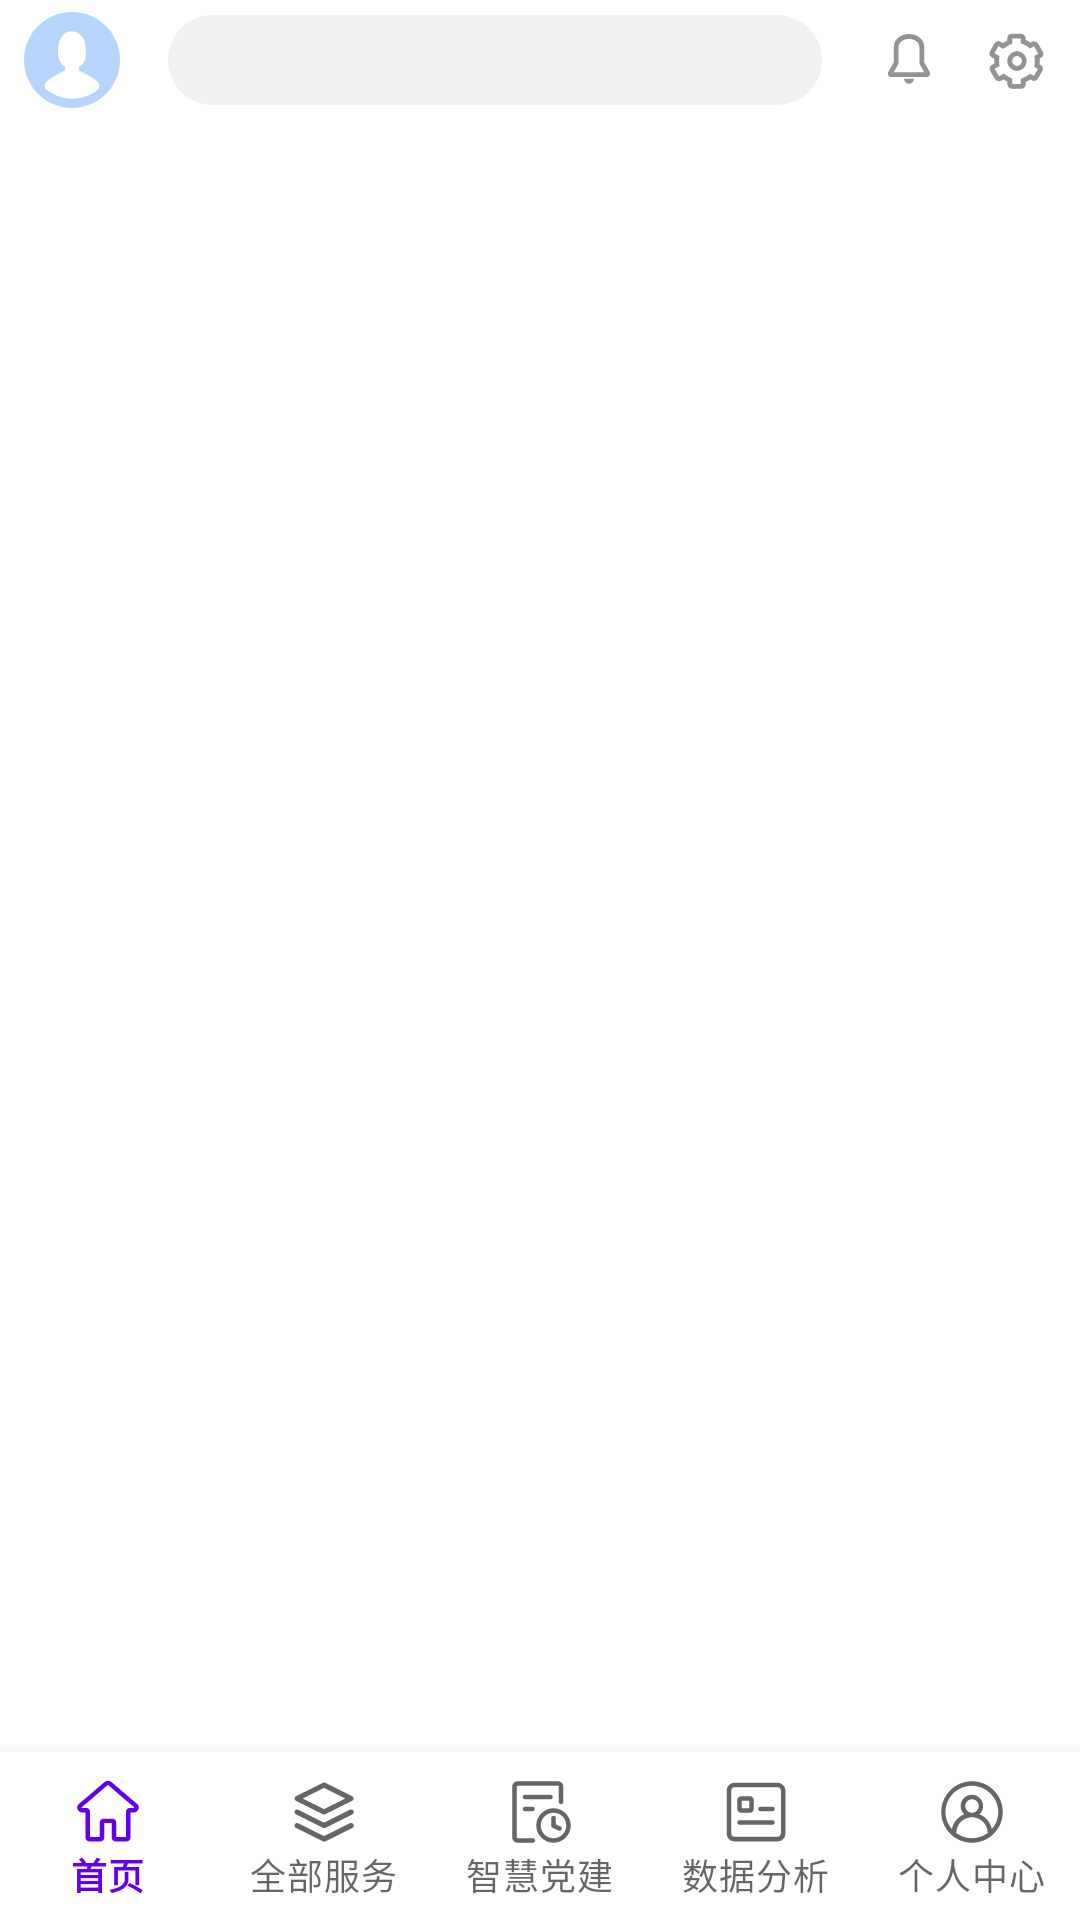

Screen size 1080px×1920px. Icon name, then its center in pixels as point (x, y):
notifications: point (909, 59)
set: point (1016, 61)
user avatars: point (72, 60)
